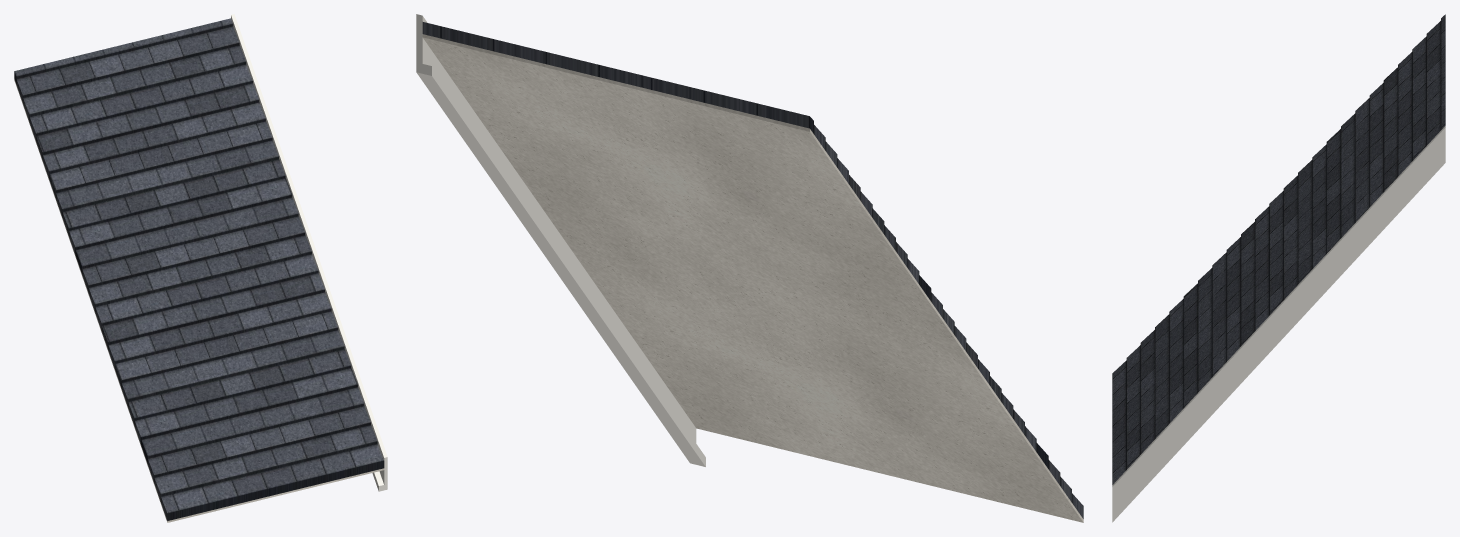
File: roof_valley_b.glb
3 views of the same model, side by side, from view 1: azimuth 30°, elevation 25°; view 2: azimuth 150°, elevation 25°; view 3: azimuth 270°, elevation 25° (orthographic). The views are drawn at different scales.
Visible parts, largest first — view 1: roof_valley_b_shingles, roof_valley_b_trim, roof_valley_b_plaster; view 2: roof_valley_b_plaster, roof_valley_b_trim, roof_valley_b_shingles; view 3: roof_valley_b_shingles, roof_valley_b_trim.
Boxes of the visible parts, <box> form: roof_valley_b_shingles: <box>14,18,384,520</box>; roof_valley_b_trim: <box>231,14,387,491</box>; roof_valley_b_plaster: <box>14,79,384,522</box>; roof_valley_b_plaster: <box>422,34,1083,522</box>; roof_valley_b_trim: <box>416,14,705,466</box>; roof_valley_b_shingles: <box>422,22,1083,518</box>; roof_valley_b_shingles: <box>1112,14,1445,484</box>; roof_valley_b_trim: <box>1112,126,1445,522</box>.
Size of the model in its own units: 2.49 by 3.93 by 3.
3 materials, 2 textured.
